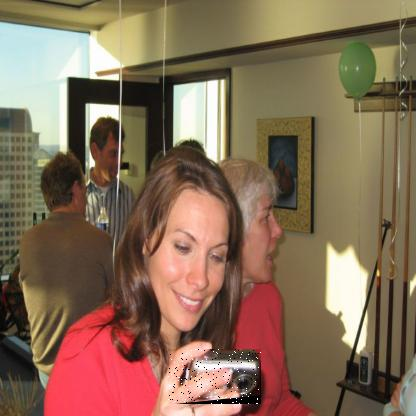Camera: (169, 350, 263, 406)
